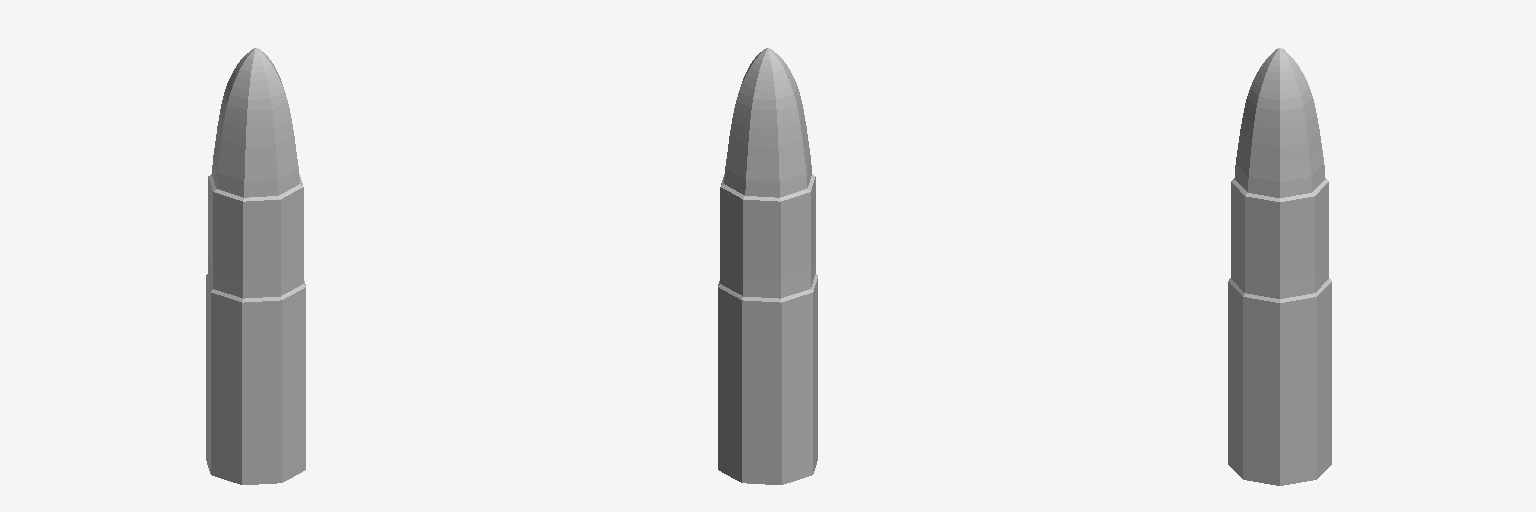
File: bulet2.obj
3 renders of one model, left to right at view 1: azimuth 30°, elevation 25°; view 2: azimuth 150°, elevation 25°; view 3: azimuth 270°, elevation 25°, orthographic.
Visible parts, largest first — view 1: Cube.003; view 2: Cube.003; view 3: Cube.003.
Boxes of the visible parts, x1=… form: Cube.003: x1=206, y1=48, x2=305, y2=484; Cube.003: x1=718, y1=48, x2=817, y2=484; Cube.003: x1=1228, y1=48, x2=1331, y2=485.
Bounding box in the file's own units: 1.5 × 6.59 × 1.5.